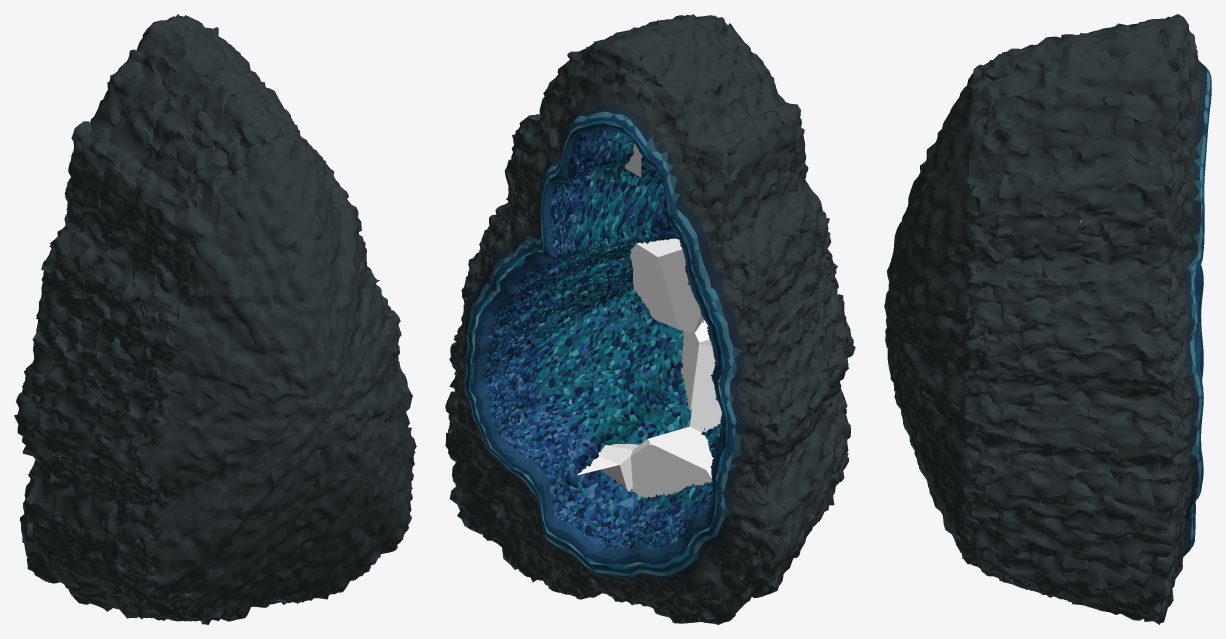
Rendered from matching-fragments.glb.
3 views of the same model, side by side, from view 1: azimuth 30°, elevation 25°; view 2: azimuth 150°, elevation 25°; view 3: azimuth 270°, elevation 25° (orthographic).
Parts seen in each view (by area): view 1: Matching fragment 27, Matching fragment 51, Matching fragment 25, Matching fragment 39, Matching fragment 12, Matching fragment 24, Matching fragment 49, Matching fragment 37, Matching fragment 65, Matching fragment 50, Matching fragment 18, Matching fragment 64 (+24 smaller); view 2: Matching fragment 05, Matching fragment 19, Matching fragment 50, Matching fragment 31, Matching fragment 08, Matching fragment 02, Matching fragment 56, Matching fragment 35, Matching fragment 20, Matching fragment 38, Matching fragment 65, Matching fragment 26 (+26 smaller); view 3: Matching fragment 34, Matching fragment 22, Matching fragment 68, Matching fragment 35, Matching fragment 56, Matching fragment 46, Matching fragment 67, Matching fragment 33, Matching fragment 47, Matching fragment 42, Matching fragment 23, Matching fragment 54 (+17 smaller).
Boxes of the visible parts, x1,y1,x2,y2 form: Matching fragment 27: (217,394,346,519); Matching fragment 51: (212,186,326,311); Matching fragment 25: (39,349,156,493); Matching fragment 39: (199,299,328,398); Matching fragment 12: (120,478,243,597); Matching fragment 24: (135,390,230,508); Matching fragment 49: (119,170,212,314); Matching fragment 37: (84,236,175,385); Matching fragment 65: (129,14,248,113); Matching fragment 50: (49,139,127,267); Matching fragment 18: (299,464,395,569); Matching fragment 64: (171,75,254,182); Matching fragment 05: (585,448,712,623); Matching fragment 19: (563,319,693,445); Matching fragment 50: (664,131,770,272); Matching fragment 31: (542,243,678,374); Matching fragment 08: (508,456,627,599); Matching fragment 02: (673,490,811,624); Matching fragment 56: (519,114,641,230); Matching fragment 35: (449,279,549,407); Matching fragment 20: (508,363,604,502); Matching fragment 38: (697,246,797,363); Matching fragment 65: (595,19,708,133); Matching fragment 26: (710,350,800,453); Matching fragment 34: (981,348,1135,476); Matching fragment 22: (970,454,1098,572); Matching fragment 68: (1086,34,1211,152); Matching fragment 35: (1079,349,1203,486); Matching fragment 56: (1065,134,1206,263); Matching fragment 46: (982,250,1112,353); Matching fragment 67: (977,44,1088,150); Matching fragment 33: (901,350,1008,478); Matching fragment 47: (1097,257,1192,371); Matching fragment 42: (890,210,990,331); Matching fragment 23: (1088,460,1203,561); Matching fragment 54: (917,129,999,253).
Bounding box in the file's own units: 0.4924 × 0.802 × 0.4207.
